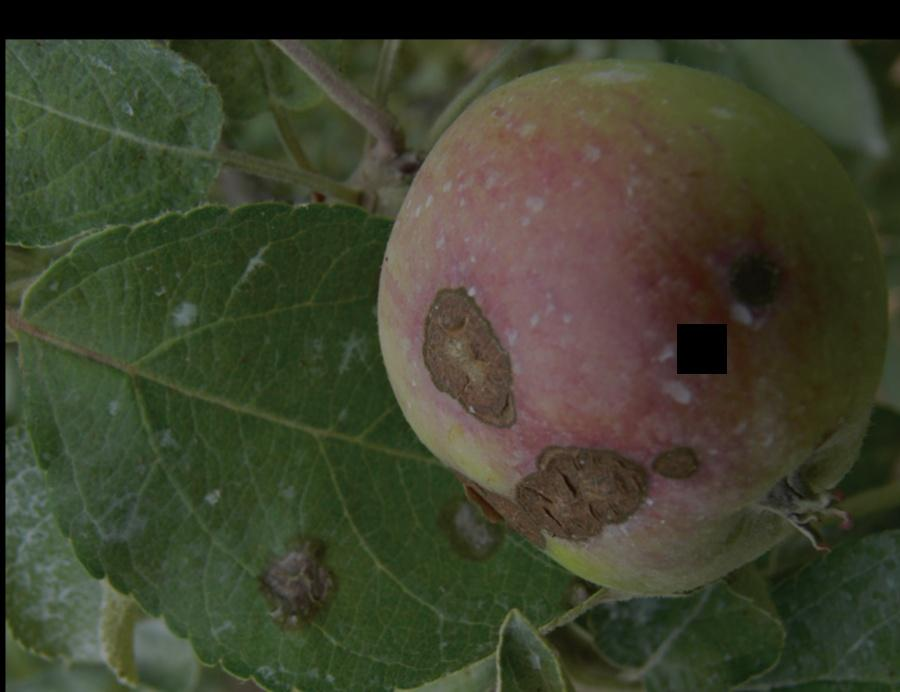rotten apple: (353, 54, 887, 590)
